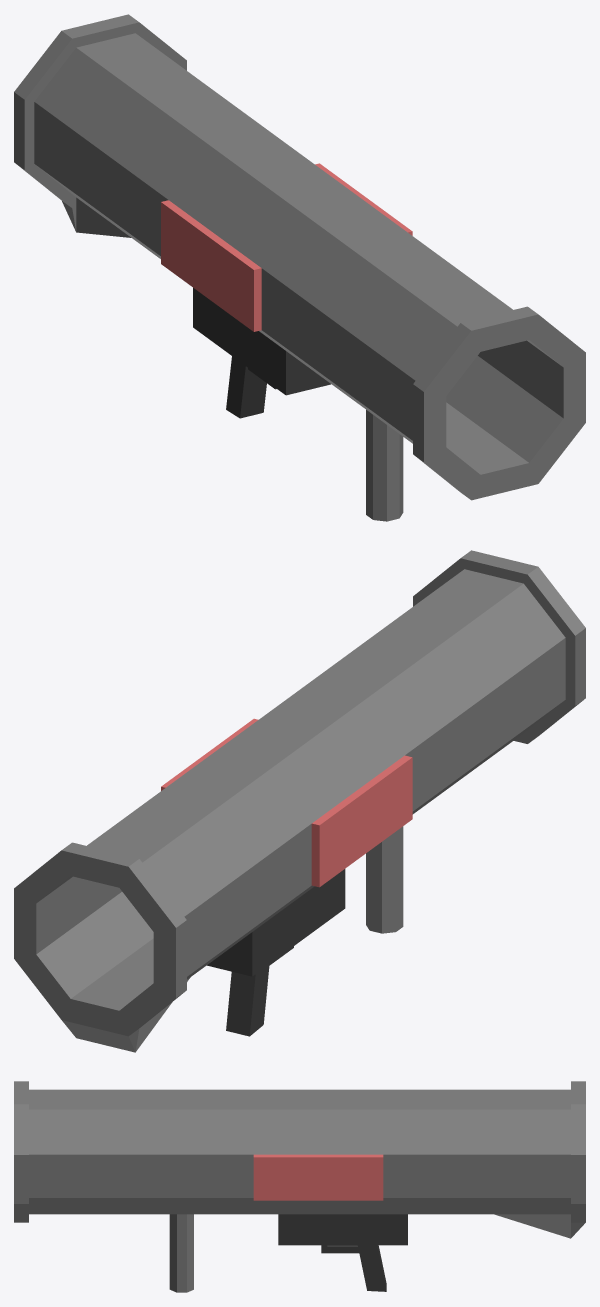
The model's file is RocketLauncher.fbx.
The picture shows the model from 3 angles, top to bottom: view 1: azimuth 30°, elevation 25°; view 2: azimuth 150°, elevation 25°; view 3: azimuth 270°, elevation 25°; orthographic projection. The views are drawn at different scales.
Parts seen in each view (by area): view 1: Cylinder.074; view 2: Cylinder.074; view 3: Cylinder.074.
Boxes of the visible parts, <box> form: Cylinder.074: <box>14,14,585,521</box>; Cylinder.074: <box>14,550,585,1052</box>; Cylinder.074: <box>14,1081,585,1292</box>.
Bounding box in the file's own units: 25.21 × 41.56 × 110.
